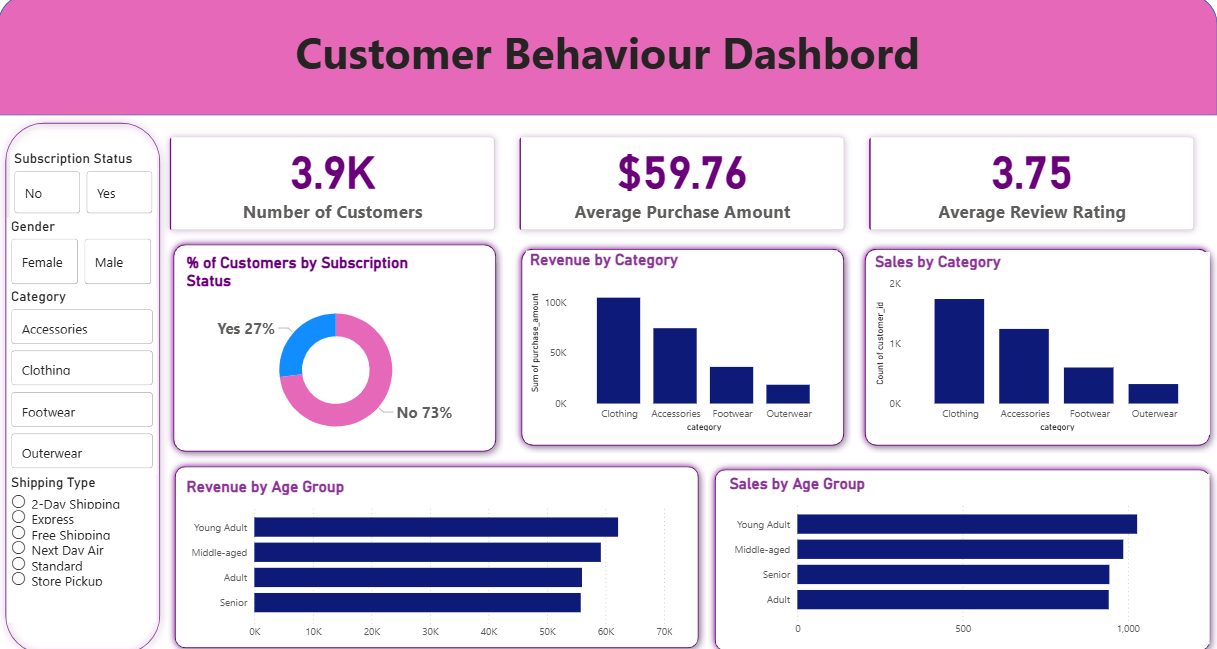

The dashboard page shown, as its layout file describes it:
{"tool":"powerbi","page":{"name":"Page 1","canvas":[1500,820],"ordinal":0},"visuals":[{"type":"cardVisual","fields":{"Data":["mydatabase mytable.Number of Customers","mydatabase mytable.Average PUrchase Amount","mydatabase mytable.Average Review Rating"]},"box":[182.6,147.5,1316.7,171.5],"z":0},{"type":"shape","box":[0,0,1499.3,149.4],"z":1000},{"type":"textbox","box":[0,29.5,1499.3,119.9],"z":2000},{"type":"shape","box":[206.5,298.7,414.9,272.9],"z":3000},{"type":"donutChart","title":"% of Customers by Subscription Status","fields":{"Category":["mydatabase mytable.subscription_status"],"Y":["CountNonNull(mydatabase mytable.customer_id)"]},"box":[226.8,319,376.2,237.9],"z":4000},{"type":"shape","box":[1056.7,304.3,442.6,260],"z":5000},{"type":"shape","box":[634.4,304.3,414.9,260],"z":6000},{"type":"clusteredColumnChart","title":"Revenue by Category","fields":{"Y":["Sum(mydatabase mytable.purchase_amount)"],"Category":["mydatabase mytable.category"]},"box":[649.1,315.3,383.6,226.8],"z":6001},{"type":"clusteredColumnChart","title":"Sales by Category","fields":{"Y":["CountNonNull(mydatabase mytable.customer_id)"],"Category":["mydatabase mytable.category"]},"box":[1073.3,317.2,416.8,225],"z":6002},{"type":"shape","box":[0,149.4,208.4,671.3],"z":6003},{"type":"advancedSlicerVisual","fields":{"Values":["mydatabase mytable.subscription_status"]},"box":[14.8,191.8,180.7,83],"z":6004},{"type":"advancedSlicerVisual","fields":{"Values":["mydatabase mytable.gender"]},"box":[11.1,274.8,182.6,86.7],"z":6005},{"type":"advancedSlicerVisual","fields":{"Values":["mydatabase mytable.category"]},"box":[11.1,361.4,184.4,228.7],"z":6006},{"type":"listSlicer","fields":{"Values":["mydatabase mytable.shipping_type"]},"box":[11.1,590.1,182.6,191.8],"z":6007},{"type":"shape","box":[208.4,571.7,662,241.6],"z":6009},{"type":"shape","box":[872.3,575.4,627,241.6],"z":6010},{"type":"clusteredBarChart","title":"Sales by Age Group","fields":{"Y":["CountNonNull(mydatabase mytable.customer_id)"],"Category":["mydatabase mytable.age_group"]},"box":[894.4,590.1,595.7,208.4],"z":6011},{"type":"clusteredBarChart","title":"Revenue by Age Group","fields":{"Y":["Sum(mydatabase mytable.purchase_amount)"],"Category":["mydatabase mytable.age_group"]},"box":[226.8,593.8,606.7,208.4],"z":6012}]}

Visuals, with their boxes in screenshot pixels (x1, y1, x2, y2), scaled from the page's 1500x820 canvas onto the 1217x649 screenshot:
cardVisual - mydatabase mytable.Number of Customers x mydatabase mytable.Average PUrchase Amount: <bbox>148, 117, 1216, 252</bbox>
shape: <bbox>0, 0, 1216, 118</bbox>
textbox: <bbox>0, 23, 1216, 118</bbox>
shape: <bbox>168, 236, 504, 452</bbox>
"% of Customers by Subscription Status" donutChart: <bbox>184, 252, 489, 441</bbox>
shape: <bbox>857, 241, 1216, 447</bbox>
shape: <bbox>515, 241, 851, 447</bbox>
"Revenue by Category" clusteredColumnChart: <bbox>527, 250, 838, 429</bbox>
"Sales by Category" clusteredColumnChart: <bbox>871, 251, 1209, 429</bbox>
shape: <bbox>0, 118, 169, 648</bbox>
advancedSlicerVisual - mydatabase mytable.subscription_status: <bbox>12, 152, 159, 217</bbox>
advancedSlicerVisual - mydatabase mytable.gender: <bbox>9, 217, 157, 286</bbox>
advancedSlicerVisual - mydatabase mytable.category: <bbox>9, 286, 159, 467</bbox>
listSlicer - mydatabase mytable.shipping_type: <bbox>9, 467, 157, 619</bbox>
shape: <bbox>169, 452, 706, 644</bbox>
shape: <bbox>708, 455, 1216, 647</bbox>
"Sales by Age Group" clusteredBarChart: <bbox>726, 467, 1209, 632</bbox>
"Revenue by Age Group" clusteredBarChart: <bbox>184, 470, 676, 635</bbox>
